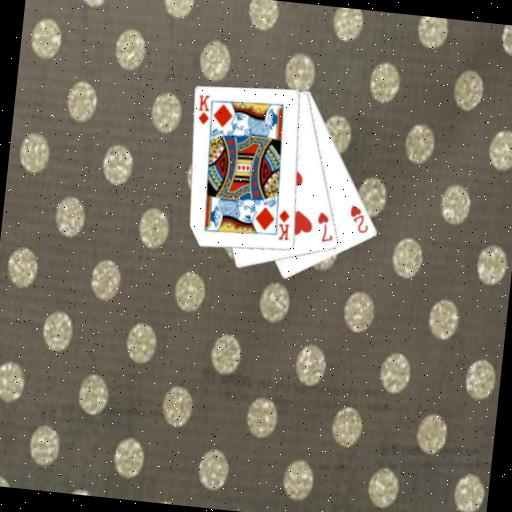2H: (345, 202, 372, 236)
7H: (313, 208, 338, 245)
KD: (274, 206, 294, 243), (193, 91, 213, 127)
